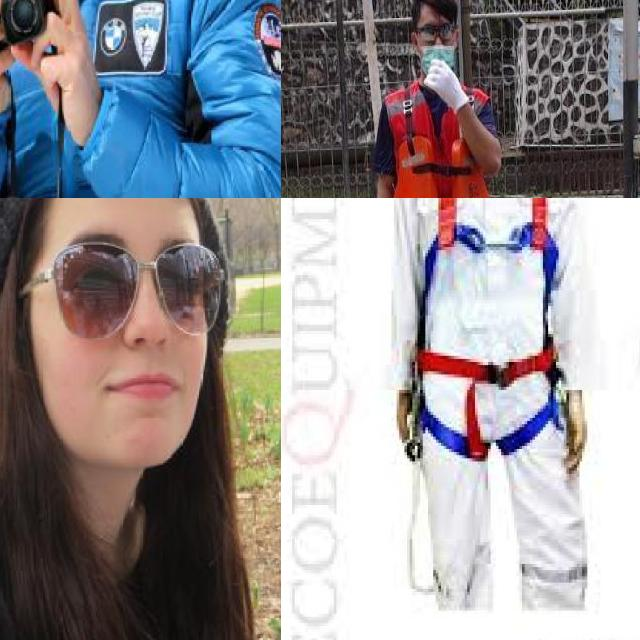Harness: (416, 198, 560, 462)
face_nomask: (46, 235, 221, 421)
glasses: (38, 227, 226, 344)
hand_noglove: (17, 0, 94, 98)
person: (0, 198, 249, 640), (351, 0, 548, 198)
vest: (381, 80, 500, 198)
